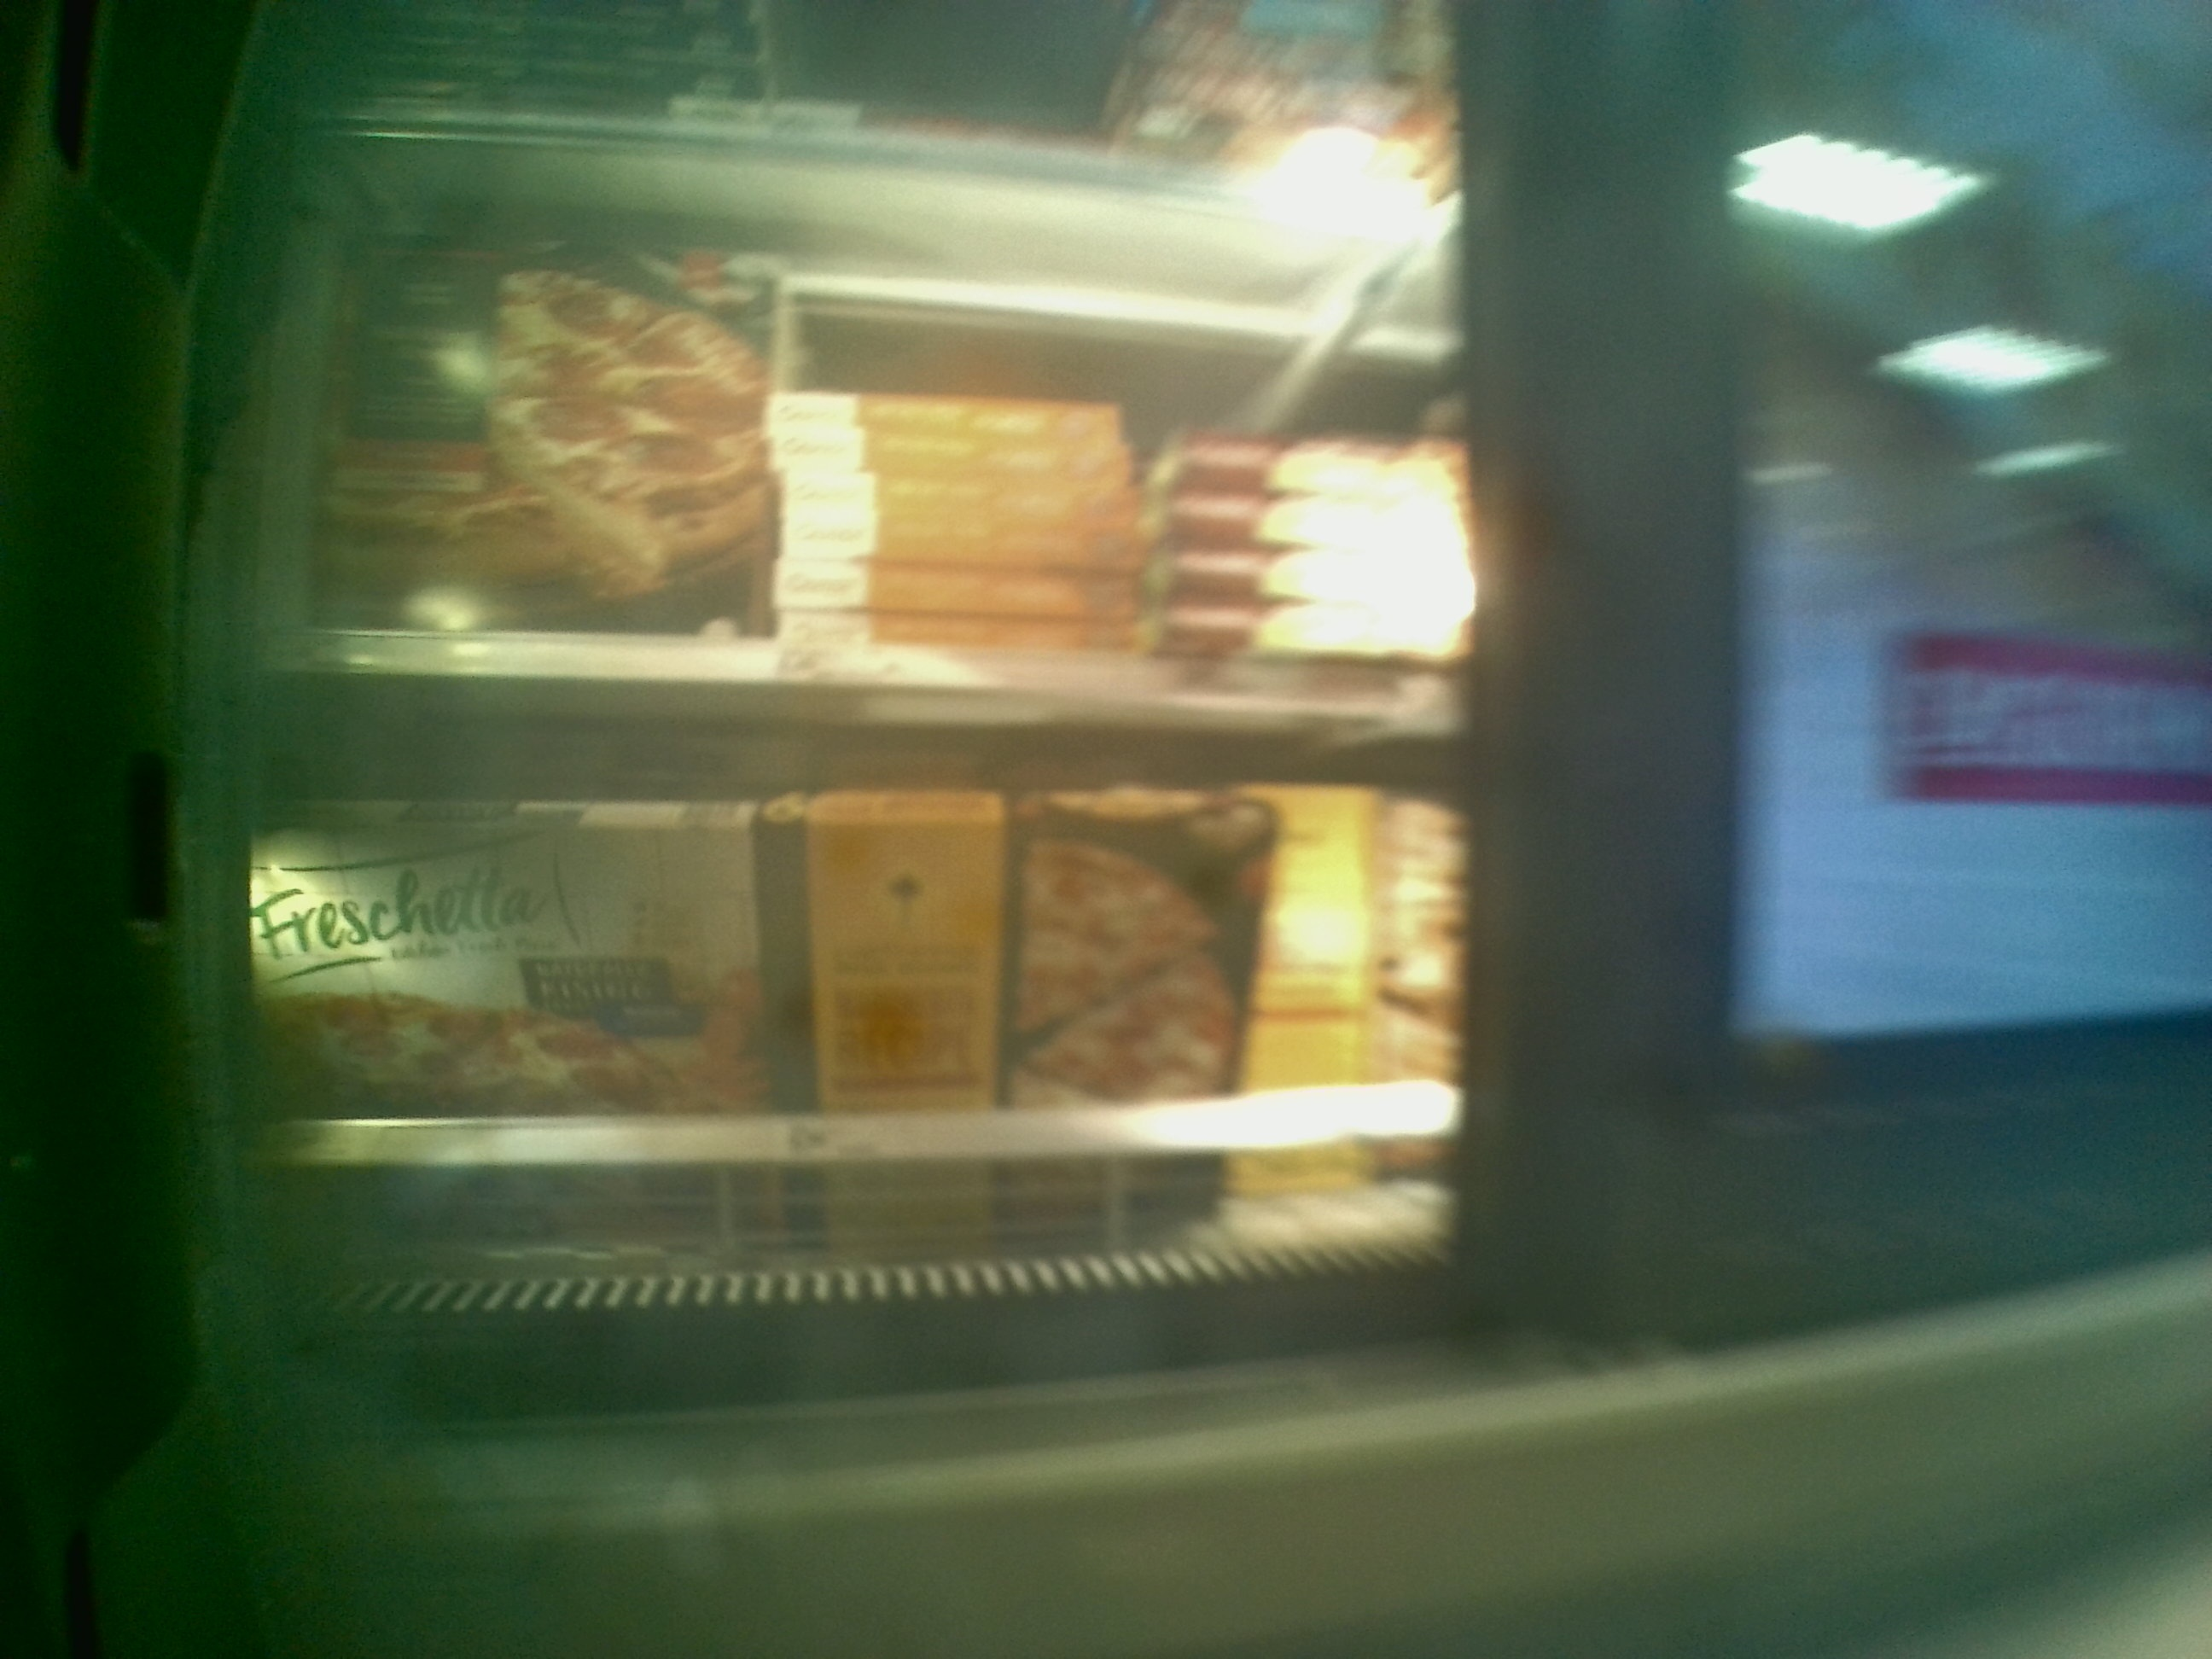pizza: (265, 798, 1245, 1089), (329, 254, 747, 629), (784, 518, 1144, 558), (787, 572, 1144, 612), (782, 436, 1111, 476), (792, 471, 1148, 505), (784, 617, 1150, 641), (787, 396, 1080, 425)
